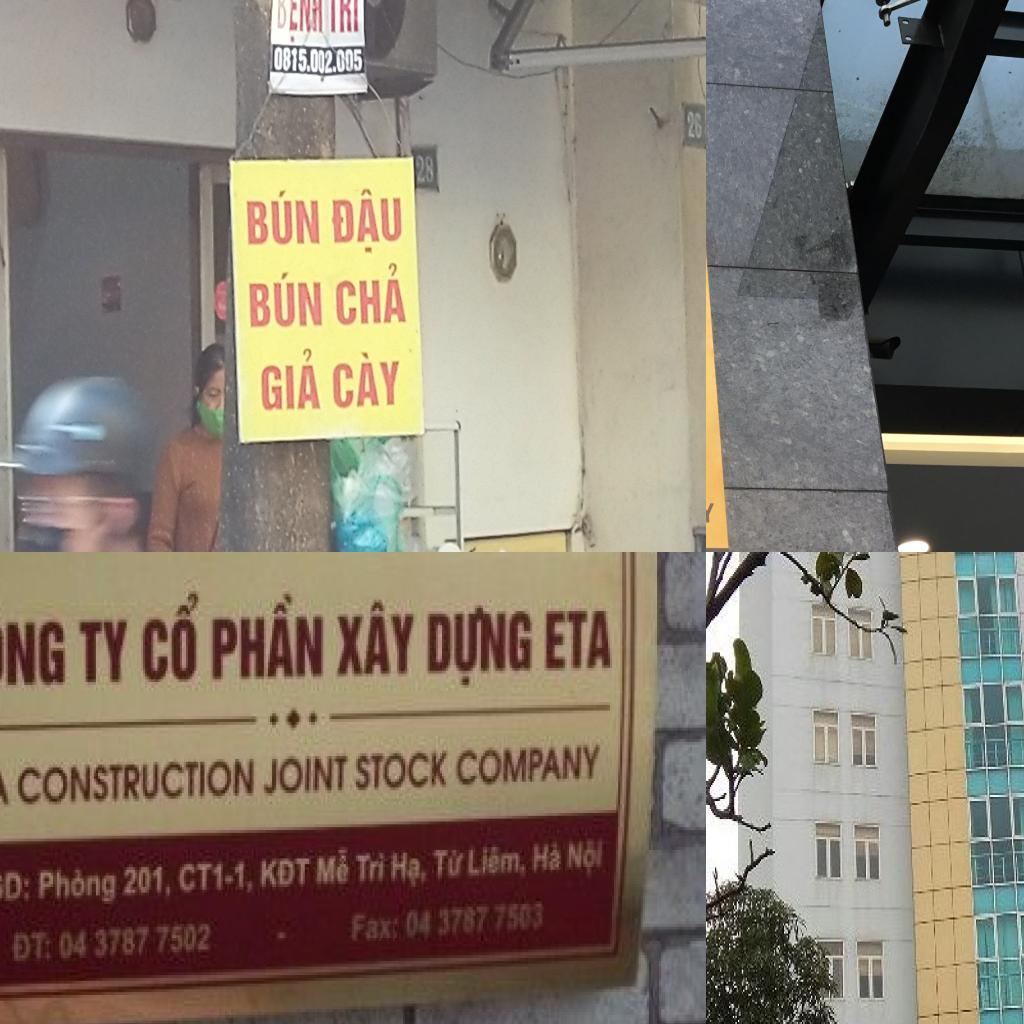text: (16, 753, 258, 810), (211, 588, 327, 685), (424, 600, 536, 690), (454, 739, 606, 793), (334, 597, 420, 682), (59, 921, 215, 964), (141, 588, 204, 691), (0, 602, 71, 693), (254, 338, 326, 418), (542, 606, 616, 680), (324, 184, 404, 252), (330, 257, 409, 325), (330, 345, 406, 411), (246, 268, 324, 330), (242, 186, 321, 246), (354, 747, 450, 796), (262, 750, 352, 802), (75, 614, 131, 690), (38, 861, 118, 907), (176, 856, 256, 901), (270, 46, 364, 74), (467, 841, 528, 884), (120, 861, 174, 904), (260, 853, 313, 895), (273, 0, 323, 44), (350, 910, 403, 946), (389, 847, 430, 893), (567, 836, 608, 881), (10, 926, 55, 966), (315, 847, 354, 890), (432, 841, 466, 887), (0, 867, 34, 909), (356, 847, 389, 890), (325, 0, 364, 36), (532, 838, 565, 878), (0, 764, 14, 810)
